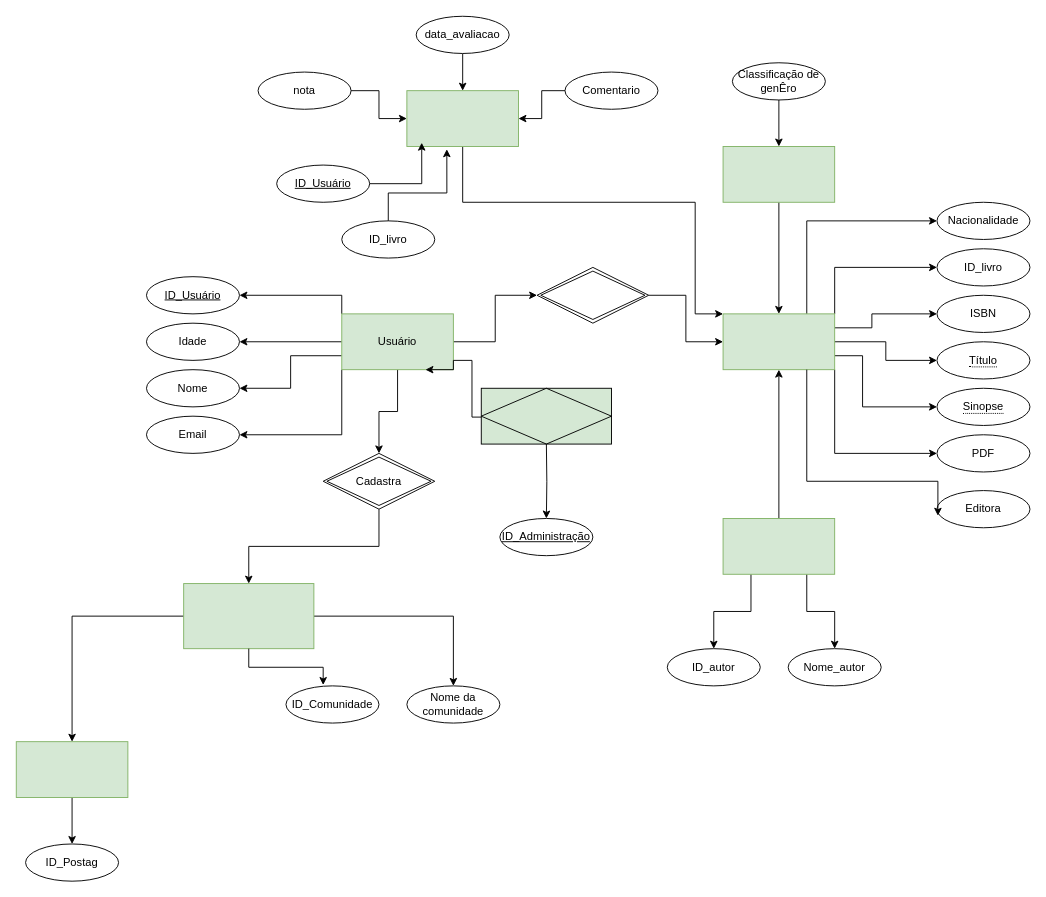
The diagram is 1046 pixels wide and 897 high, and some of its shapes have lost their labels. The centre of each missing label's shape, as x and y in pixels:
"acessa" belongs at (592,294).
"Administração" belongs at (545,415).
"Autor" belongs at (778,546).
"Avaliação" belongs at (462,118).
"Comunidade" belongs at (248,616).
"Genêro" belongs at (778,174).
"Livro" belongs at (778,341).
"P ostagem" belongs at (71,769).
